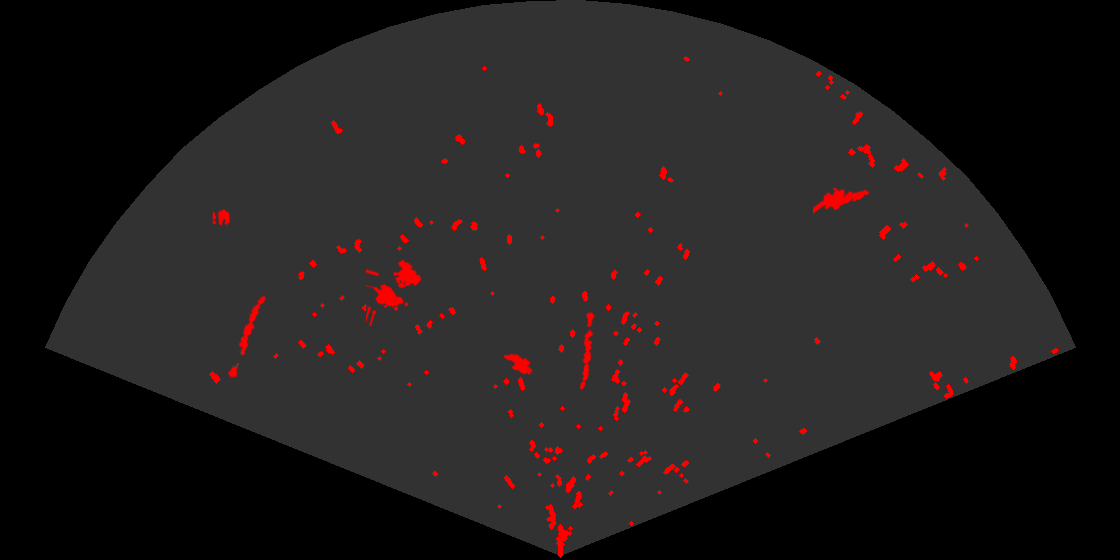AUV: (502, 352, 534, 376)
ball: (211, 208, 231, 227)
cage: (366, 258, 423, 326)
chain: (226, 294, 268, 381), (578, 311, 597, 392)
frogman: (813, 186, 871, 216)
